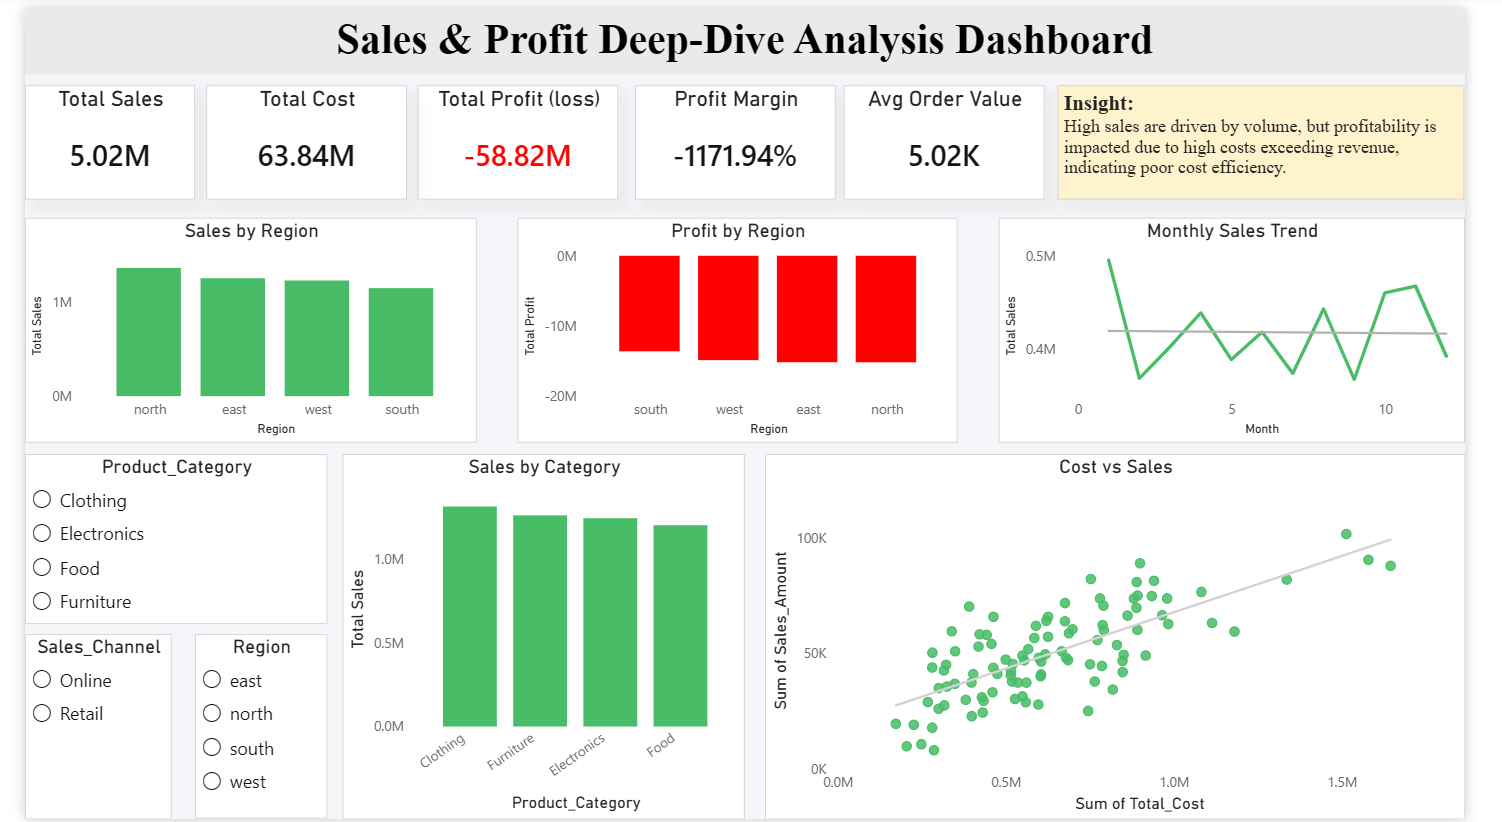

What the dashboard file says about the page in this screenshot:
{"tool":"powerbi","page":{"name":"Page 1","canvas":[1280,720],"ordinal":0},"visuals":[{"type":"cardVisual","title":"Total Sales","fields":{"Data":["cleaned_data.Total Sales"]},"box":[0,67.5,151.2,101.2],"z":0},{"type":"cardVisual","title":"Total Profit (loss)","fields":{"Data":["cleaned_data.Total Profit"]},"box":[348.8,67.5,178.8,101.2],"z":1000},{"type":"cardVisual","title":"Profit Margin","fields":{"Data":["cleaned_data.Profit Margin"]},"box":[542.5,67.5,178.8,101.2],"z":2000},{"type":"cardVisual","title":"Avg Order Value","fields":{"Data":["cleaned_data.Avg Order Value"]},"box":[727.5,67.5,178.8,101.2],"z":3000},{"type":"clusteredColumnChart","title":"Sales by Region","fields":{"Y":["cleaned_data.Total Sales"],"Category":["cleaned_data.Region"]},"box":[0,186.1,401.6,199.8],"z":4000},{"type":"clusteredColumnChart","title":"Profit by Region","fields":{"Category":["cleaned_data.Region"],"Y":["cleaned_data.Total Profit"]},"box":[437.4,186.1,391.1,199.8],"z":5000},{"type":"clusteredColumnChart","title":"Sales by Category","fields":{"Category":["cleaned_data.Product_Category"],"Y":["cleaned_data.Total Sales"]},"box":[282.2,395.6,357.8,324.4],"z":6000},{"type":"lineChart","title":"Monthly Sales Trend","fields":{"Y":["cleaned_data.Total Sales"],"Category":["cleaned_data.Month"]},"box":[865.3,186.1,414.3,199.8],"z":7000},{"type":"scatterChart","title":"Cost vs Sales","fields":{"X":["Sum(cleaned_data.Total_Cost)"],"Y":["Sum(cleaned_data.Sales_Amount)"],"Category":["cleaned_data.Product_ID"]},"box":[657.5,395,622.5,325],"z":8000},{"type":"textbox","title":"Sales & Profit Deep-Dive Dashboard","box":[0,0,1280,58.8],"z":9000},{"type":"listSlicer","fields":{"Values":["cleaned_data.Region"]},"box":[151.2,555,117.5,163.8],"z":10000},{"type":"listSlicer","fields":{"Values":["cleaned_data.Sales_Channel"]},"box":[0,555.6,130,164.4],"z":11000},{"type":"listSlicer","fields":{"Values":["cleaned_data.Product_Category"]},"box":[0,395,268.8,151.2],"z":12000},{"type":"textbox","box":[917.5,67.5,361.2,101.2],"z":13000},{"type":"cardVisual","title":"Total Cost","fields":{"Data":["Sum(cleaned_data.Total_Cost)"]},"box":[161.2,67.5,178.8,101.2],"z":14000}]}

Visuals, with their boxes in screenshot pixels (x1, y1, x2, y2), scaled from the page's 1280x720 canvas onto the 1502x822 screenshot:
"Total Sales" cardVisual: {"left": 0, "top": 77, "right": 177, "bottom": 193}
"Total Profit (loss)" cardVisual: {"left": 409, "top": 77, "right": 619, "bottom": 193}
"Profit Margin" cardVisual: {"left": 637, "top": 77, "right": 846, "bottom": 193}
"Avg Order Value" cardVisual: {"left": 854, "top": 77, "right": 1063, "bottom": 193}
"Sales by Region" clusteredColumnChart: {"left": 0, "top": 212, "right": 471, "bottom": 441}
"Profit by Region" clusteredColumnChart: {"left": 513, "top": 212, "right": 972, "bottom": 441}
"Sales by Category" clusteredColumnChart: {"left": 331, "top": 452, "right": 751, "bottom": 821}
"Monthly Sales Trend" lineChart: {"left": 1015, "top": 212, "right": 1501, "bottom": 441}
"Cost vs Sales" scatterChart: {"left": 772, "top": 451, "right": 1501, "bottom": 821}
"Sales & Profit Deep-Dive Dashboard" textbox: {"left": 0, "top": 0, "right": 1501, "bottom": 67}
listSlicer - cleaned_data.Region: {"left": 177, "top": 634, "right": 315, "bottom": 821}
listSlicer - cleaned_data.Sales_Channel: {"left": 0, "top": 634, "right": 153, "bottom": 821}
listSlicer - cleaned_data.Product_Category: {"left": 0, "top": 451, "right": 315, "bottom": 624}
textbox: {"left": 1077, "top": 77, "right": 1500, "bottom": 193}
"Total Cost" cardVisual: {"left": 189, "top": 77, "right": 399, "bottom": 193}
